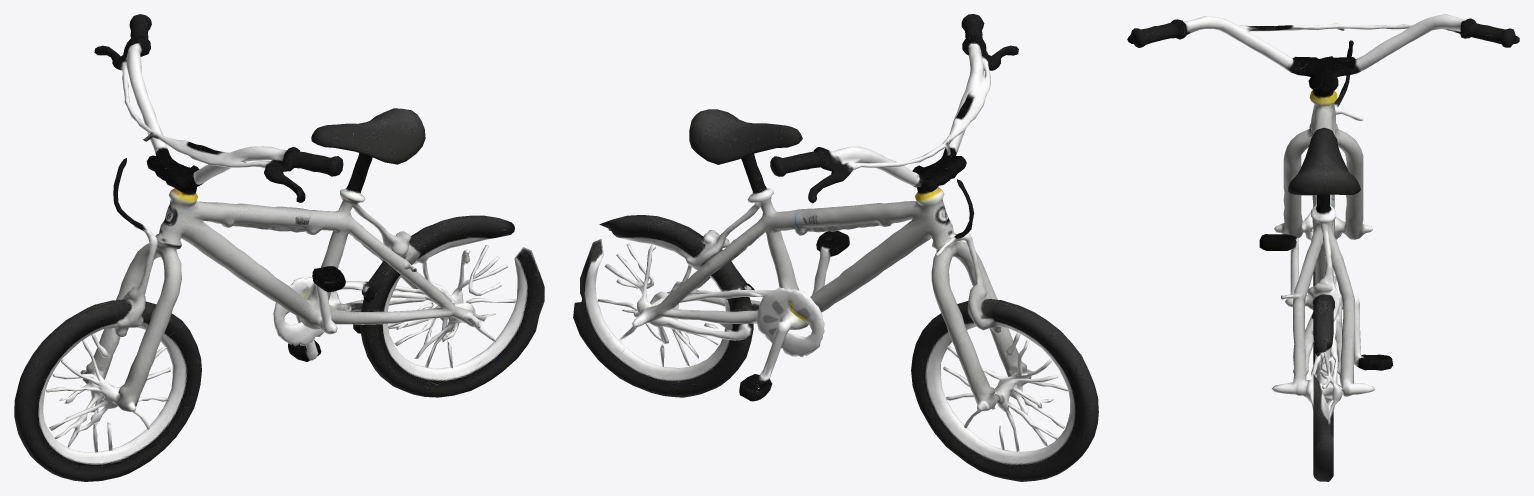
Rendered from bike.glb.
3 renders of one model, left to right at view 1: azimuth 30°, elevation 25°; view 2: azimuth 150°, elevation 25°; view 3: azimuth 270°, elevation 25°, orthographic. The views are drawn at different scales.
Size of the model in its own units: 1.88 by 1.24 by 1.29.
Materials: 1 (1 with a texture image).
